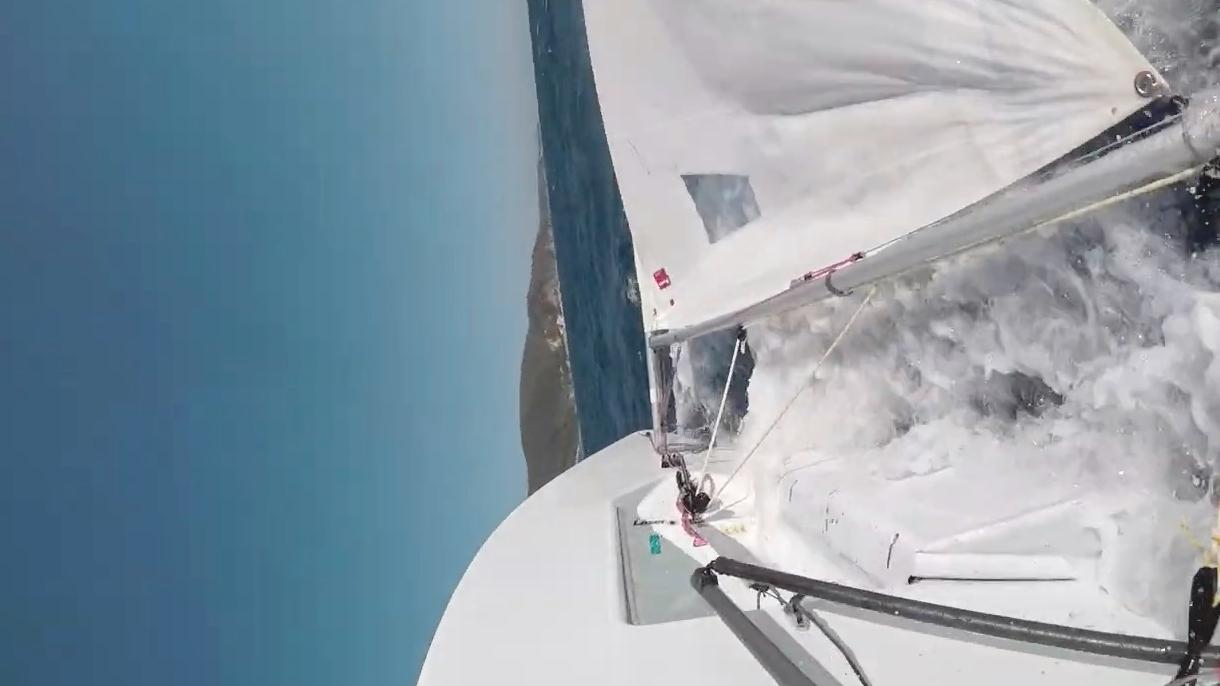boat: (416, 0, 1220, 686)
land: (519, 157, 585, 498)
sea: (737, 0, 1220, 466), (526, 0, 655, 460)
sky: (0, 0, 543, 686)
